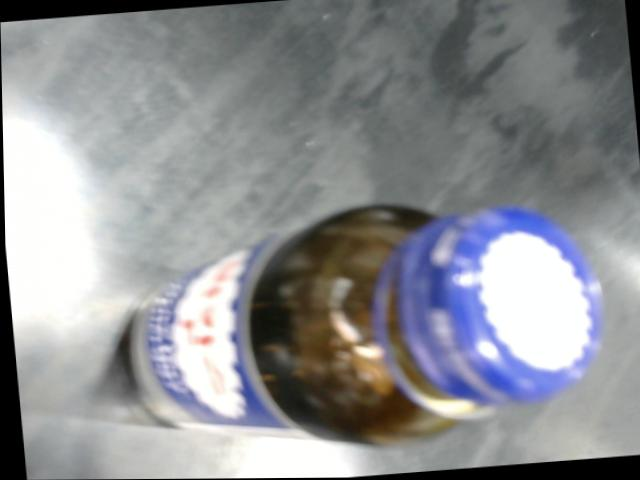glass: (117, 195, 606, 449)
